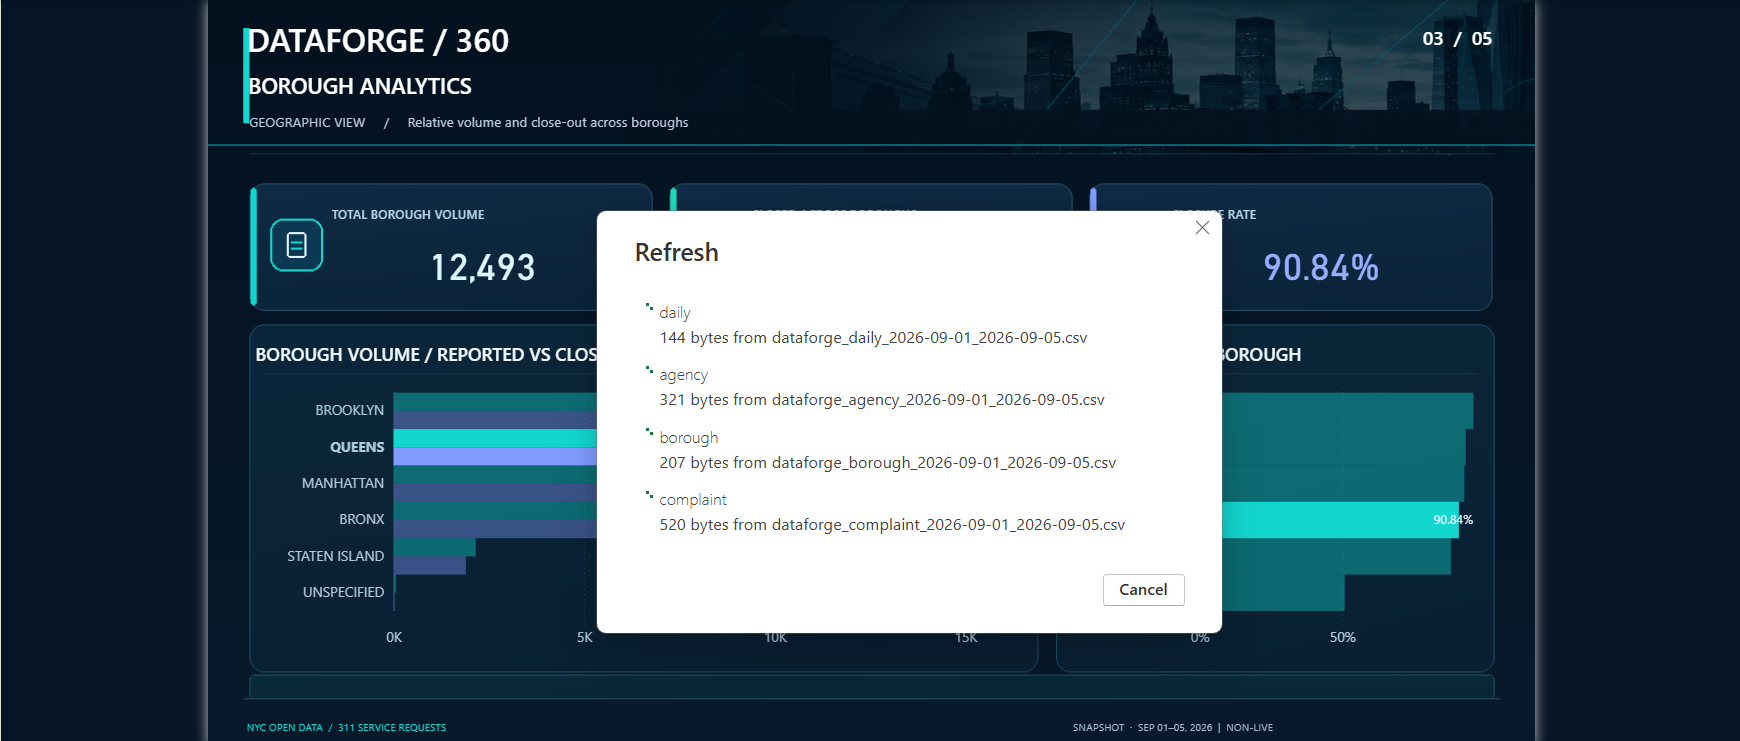

This screenshot's page, from the dashboard's own definition file:
{"tool":"powerbi","page":{"name":"Borough Analytics","canvas":[1280,720],"ordinal":2},"visuals":[{"type":"textbox","box":[37,17,700,45],"z":5},{"type":"textbox","box":[39,69,960,32],"z":6},{"type":"textbox","box":[40,108,1040,25],"z":7},{"type":"textbox","box":[1160,24,91,29],"z":8},{"type":"textbox","box":[37,691,570,23],"z":9},{"type":"textbox","box":[835,691,403,23],"z":10},{"type":"textbox","box":[120,197,293,27],"z":40},{"type":"textbox","box":[525,197,293,27],"z":41},{"type":"textbox","box":[930,197,293,27],"z":42},{"type":"card","fields":{"Values":["borough.Borough Requests"]},"box":[117,218,296,73],"z":50},{"type":"card","fields":{"Values":["borough.Borough Closed"]},"box":[522,218,296,73],"z":51},{"type":"card","fields":{"Values":["borough.Borough Closure Rate"]},"box":[927,218,296,73],"z":52},{"type":"clusteredBarChart","title":"BOROUGH VOLUME  /  REPORTED VS CLOSED","fields":{"Category":["borough.label"],"Y":["borough.Borough Requests","borough.Borough Closed"]},"box":[40,323,760,326],"z":92},{"type":"barChart","title":"CLOSURE RATE BY BOROUGH","fields":{"Category":["borough.label"],"Y":["borough.Borough Closure Rate"]},"box":[818,323,422,326],"z":93},{"type":"textbox","box":[565,332,100,28],"z":131},{"type":"textbox","box":[684,332,100,28],"z":133}]}

Visuals, with their boxes on the page's 1280x720 design canvas (x1, y1, x2, y2). These are canvas units, not pixel positions in the 1740x741 screenshot, which may show the page scaled, cropped or inside an application window:
textbox: {"left": 37, "top": 17, "right": 737, "bottom": 62}
textbox: {"left": 39, "top": 69, "right": 999, "bottom": 101}
textbox: {"left": 40, "top": 108, "right": 1080, "bottom": 133}
textbox: {"left": 1160, "top": 24, "right": 1251, "bottom": 53}
textbox: {"left": 37, "top": 691, "right": 607, "bottom": 714}
textbox: {"left": 835, "top": 691, "right": 1238, "bottom": 714}
textbox: {"left": 120, "top": 197, "right": 413, "bottom": 224}
textbox: {"left": 525, "top": 197, "right": 818, "bottom": 224}
textbox: {"left": 930, "top": 197, "right": 1223, "bottom": 224}
card - borough.Borough Requests: {"left": 117, "top": 218, "right": 413, "bottom": 291}
card - borough.Borough Closed: {"left": 522, "top": 218, "right": 818, "bottom": 291}
card - borough.Borough Closure Rate: {"left": 927, "top": 218, "right": 1223, "bottom": 291}
"BOROUGH VOLUME  /  REPORTED VS CLOSED" clusteredBarChart: {"left": 40, "top": 323, "right": 800, "bottom": 649}
"CLOSURE RATE BY BOROUGH" barChart: {"left": 818, "top": 323, "right": 1240, "bottom": 649}
textbox: {"left": 565, "top": 332, "right": 665, "bottom": 360}
textbox: {"left": 684, "top": 332, "right": 784, "bottom": 360}
